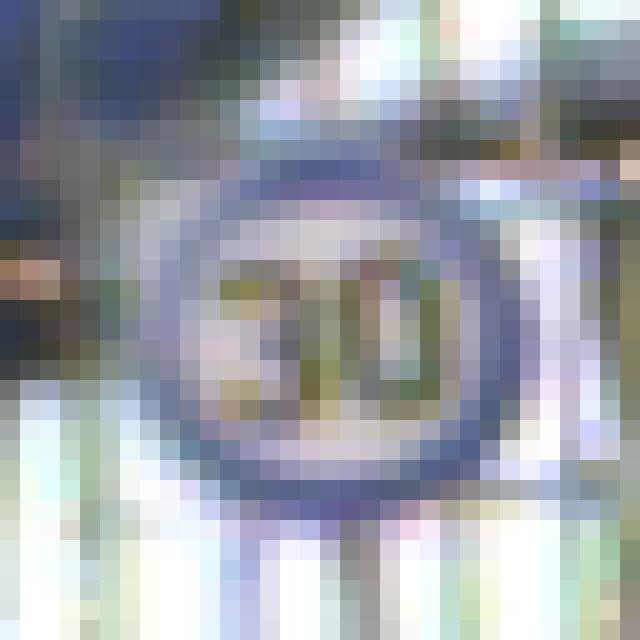SPEED LIMIT 30: (151, 164, 529, 506)
